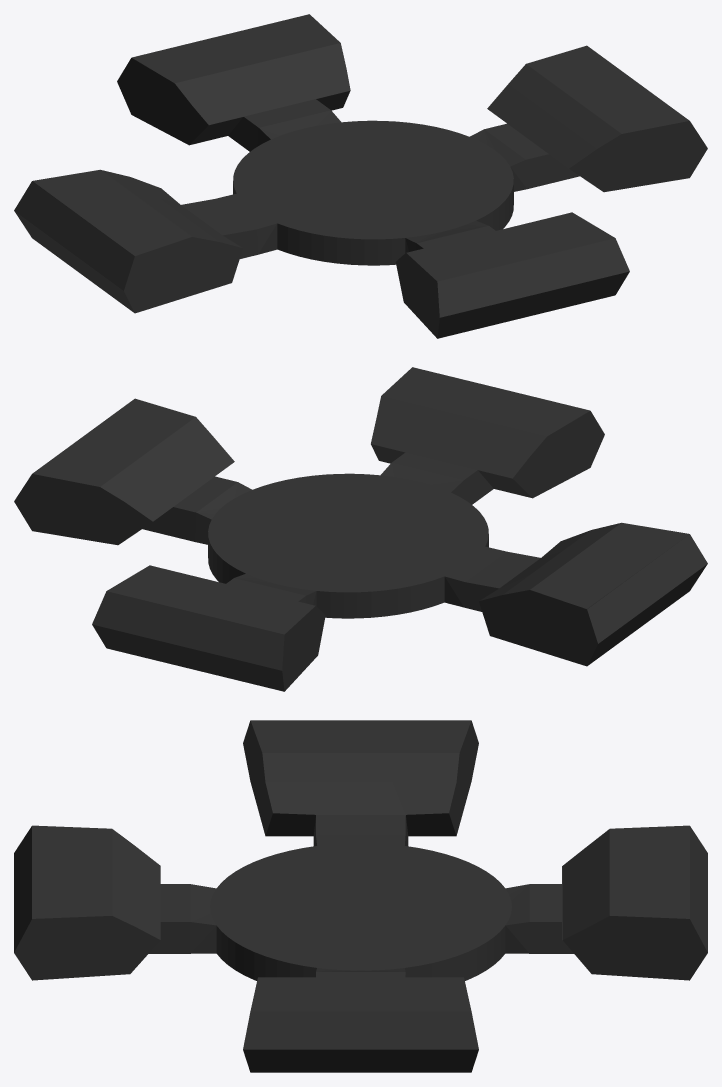
File: BattleGround.fbx
The picture shows the model from 3 angles, top to bottom: view 1: azimuth 30°, elevation 25°; view 2: azimuth 150°, elevation 25°; view 3: azimuth 270°, elevation 25°; orthographic projection. The views are drawn at different scales.
Visible parts, largest first — view 1: Basement; view 2: Basement; view 3: Basement.
Part boxes in pixels (bbox=[...]): Basement: bbox=[14, 14, 707, 338]; Basement: bbox=[14, 367, 707, 691]; Basement: bbox=[14, 720, 707, 1072].
Size of the model in its own units: 2339 by 223 by 2239.
1 material, 1 textured.
